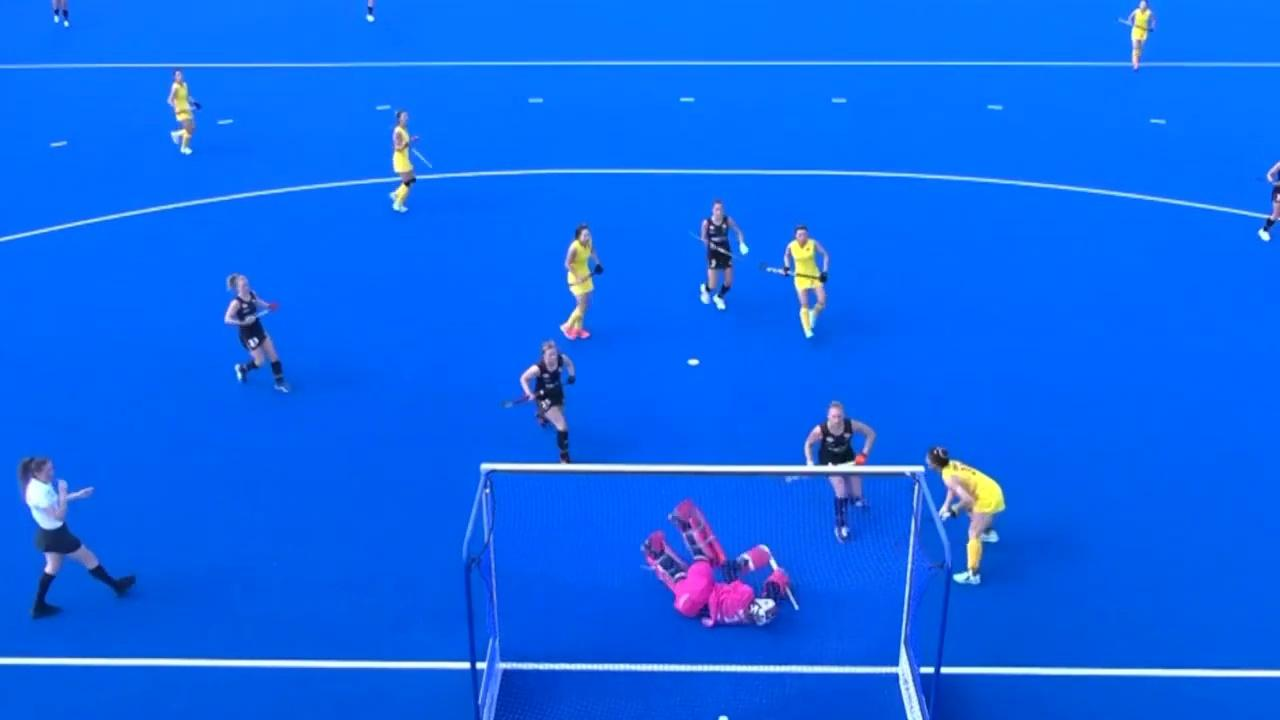ball: (715, 709, 735, 720)
